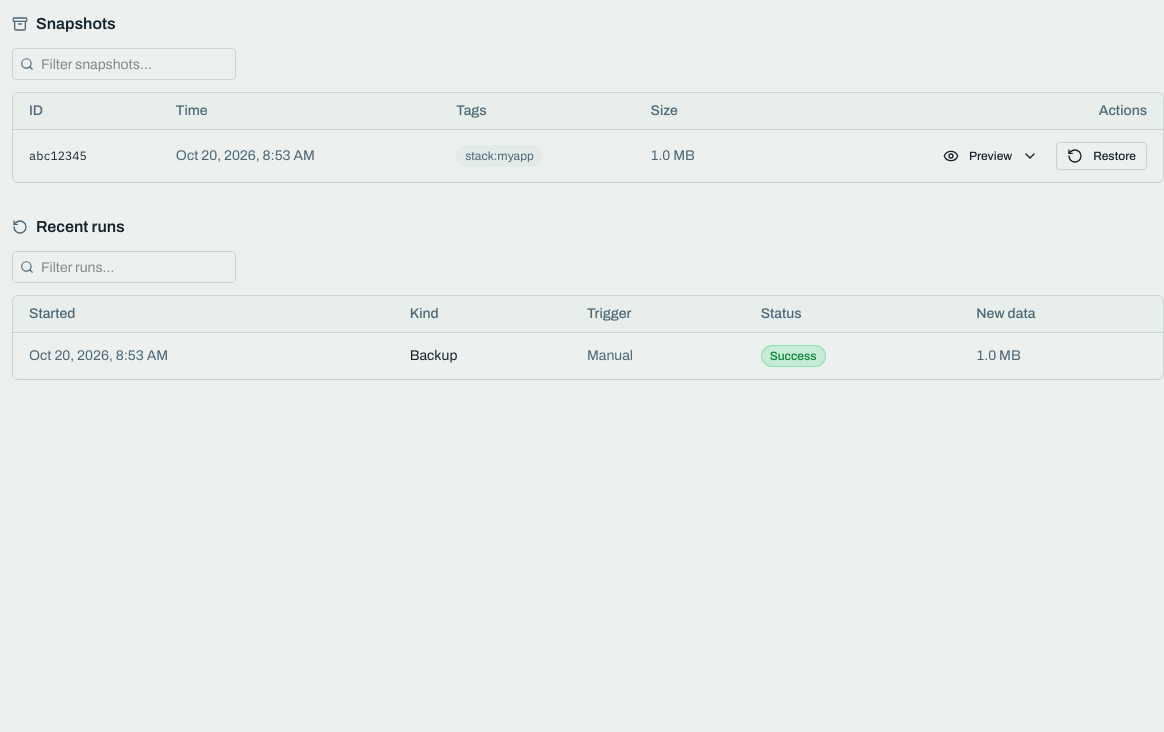
it: BackupsTab — snapshot preview panel › opens preview panel when Preview button is clicked
The image size is (1164, 732).
Click the button with aria-label "show preview" at (991, 156), box x1=933 y1=142 x2=1048 y2=170
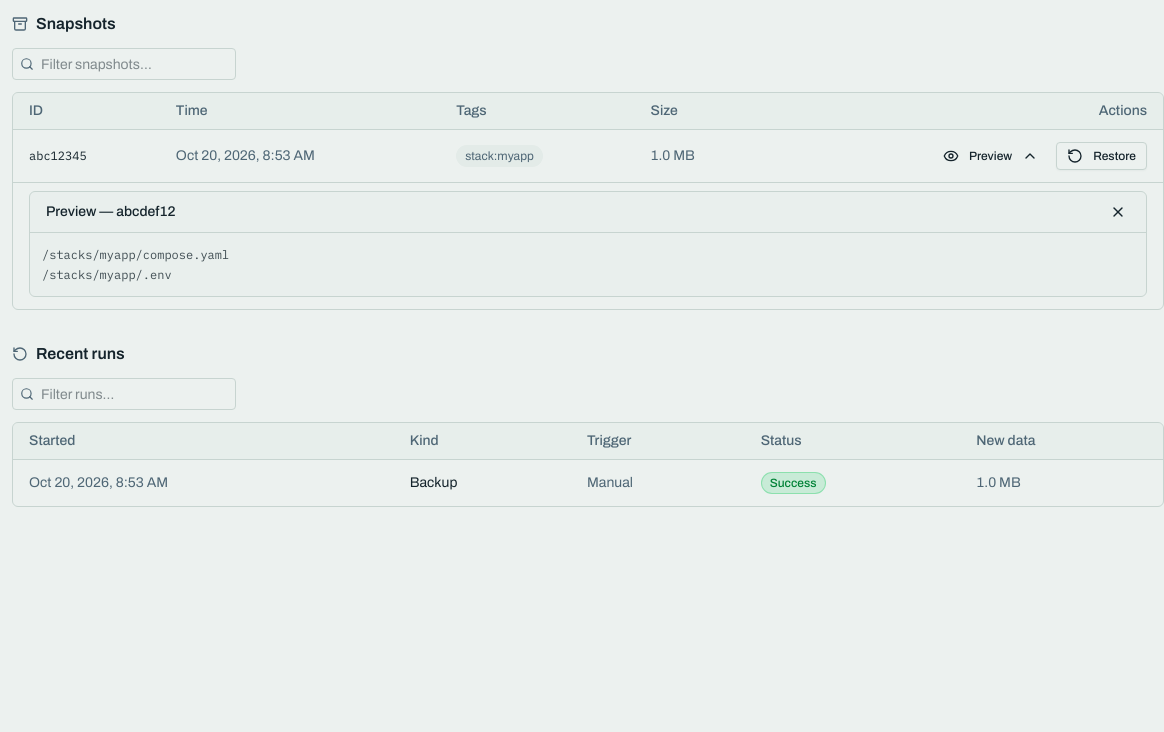
Expected: the text "/stacks/myapp/compose.yaml" is shown, x1=42 y1=247 x2=229 y2=262
Expected: the text "/stacks/myapp/.env" is shown, x1=42 y1=266 x2=172 y2=282
